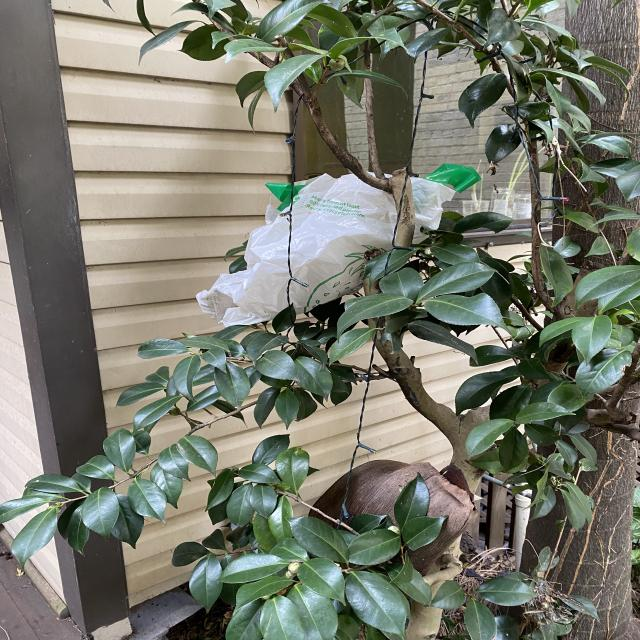bag: (195, 163, 482, 326)
